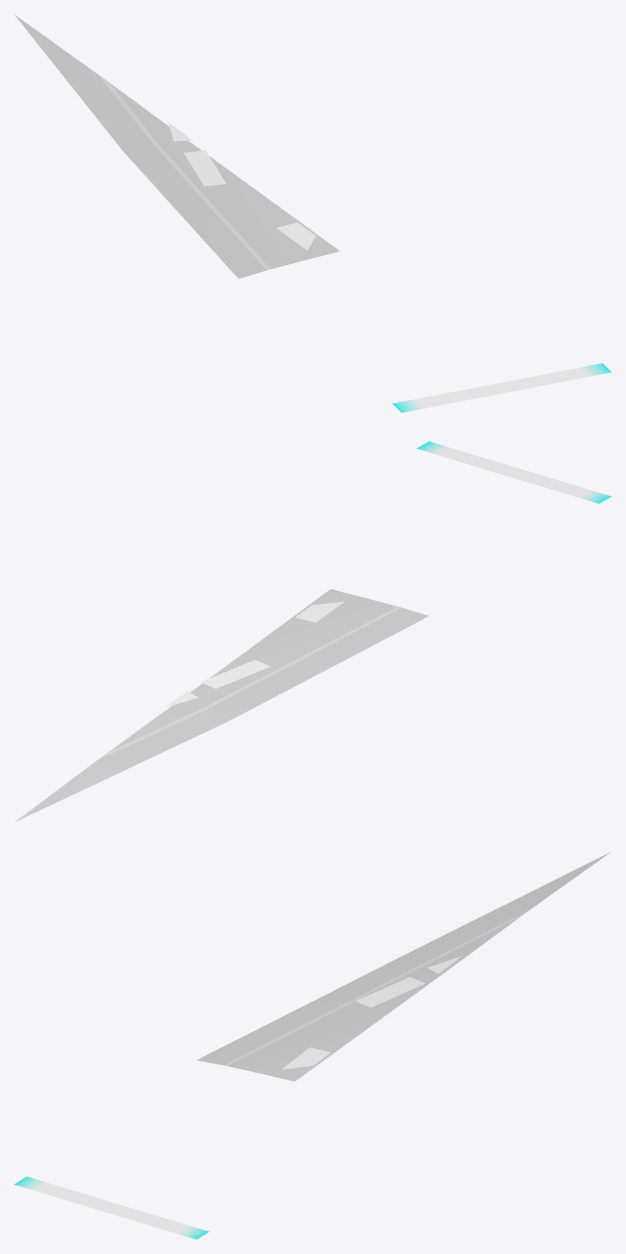
File: cell_158_113.fbx
3 views of the same model, one above another, from view 1: azimuth 30°, elevation 25°; view 2: azimuth 150°, elevation 25°; view 3: azimuth 330°, elevation 25° (orthographic). The views are drawn at different scales.
Parts seen in each view (by area): view 1: SpaceCenter_Long3_GenerateRoad_Asphalt_Mesh_x98_y70_15554_HD, SpaceCenter_Long3_GenerateRoad_Asphalt_PCGMesh_Macadam_Deca., SpaceCenter_Long3_GenerateRoad_Asphalt_PCGMesh_Decal_Mesh_x9, SpaceCenter_Long3_GenerateRoad_Asphalt_PCGMesh_Decal_Mesh_x.; view 2: SpaceCenter_Long3_GenerateRoad_Asphalt_Mesh_x98_y70_15554_HD, SpaceCenter_Long3_GenerateRoad_Asphalt_PCGMesh_Macadam_Deca., SpaceCenter_Long3_GenerateRoad_Asphalt_PCGMesh_Decal_Mesh_x9, SpaceCenter_Long3_GenerateRoad_Asphalt_PCGMesh_Decal_Mesh_x.; view 3: SpaceCenter_Long3_GenerateRoad_Asphalt_Mesh_x98_y70_15554_HD, SpaceCenter_Long3_GenerateRoad_Asphalt_PCGMesh_Macadam_Deca., SpaceCenter_Long3_GenerateRoad_Asphalt_PCGMesh_Decal_Mesh_x9, SpaceCenter_Long3_GenerateRoad_Asphalt_PCGMesh_Decal_Mesh_x..
Boxes of the visible parts, x1=… form: SpaceCenter_Long3_GenerateRoad_Asphalt_Mesh_x98_y70_15554_HD: x1=14, y1=14, x2=339, y2=278; SpaceCenter_Long3_GenerateRoad_Asphalt_PCGMesh_Macadam_Deca.: x1=168, y1=122, x2=337, y2=257; SpaceCenter_Long3_GenerateRoad_Asphalt_PCGMesh_Decal_Mesh_x9: x1=392, y1=381, x2=521, y2=412; SpaceCenter_Long3_GenerateRoad_Asphalt_PCGMesh_Decal_Mesh_x.: x1=511, y1=363, x2=611, y2=389; SpaceCenter_Long3_GenerateRoad_Asphalt_Mesh_x98_y70_15554_HD: x1=15, y1=589, x2=428, y2=821; SpaceCenter_Long3_GenerateRoad_Asphalt_PCGMesh_Macadam_Deca.: x1=164, y1=601, x2=343, y2=707; SpaceCenter_Long3_GenerateRoad_Asphalt_PCGMesh_Decal_Mesh_x9: x1=496, y1=465, x2=611, y2=503; SpaceCenter_Long3_GenerateRoad_Asphalt_PCGMesh_Decal_Mesh_x.: x1=417, y1=441, x2=506, y2=472; SpaceCenter_Long3_GenerateRoad_Asphalt_Mesh_x98_y70_15554_HD: x1=197, y1=852, x2=610, y2=1081; SpaceCenter_Long3_GenerateRoad_Asphalt_PCGMesh_Macadam_Deca.: x1=273, y1=956, x2=461, y2=1081; SpaceCenter_Long3_GenerateRoad_Asphalt_PCGMesh_Decal_Mesh_x9: x1=14, y1=1176, x2=129, y2=1215; SpaceCenter_Long3_GenerateRoad_Asphalt_PCGMesh_Decal_Mesh_x.: x1=119, y1=1207, x2=208, y2=1239.
Size of the model in its own units: 10.12 by 0.4258 by 44.69.
